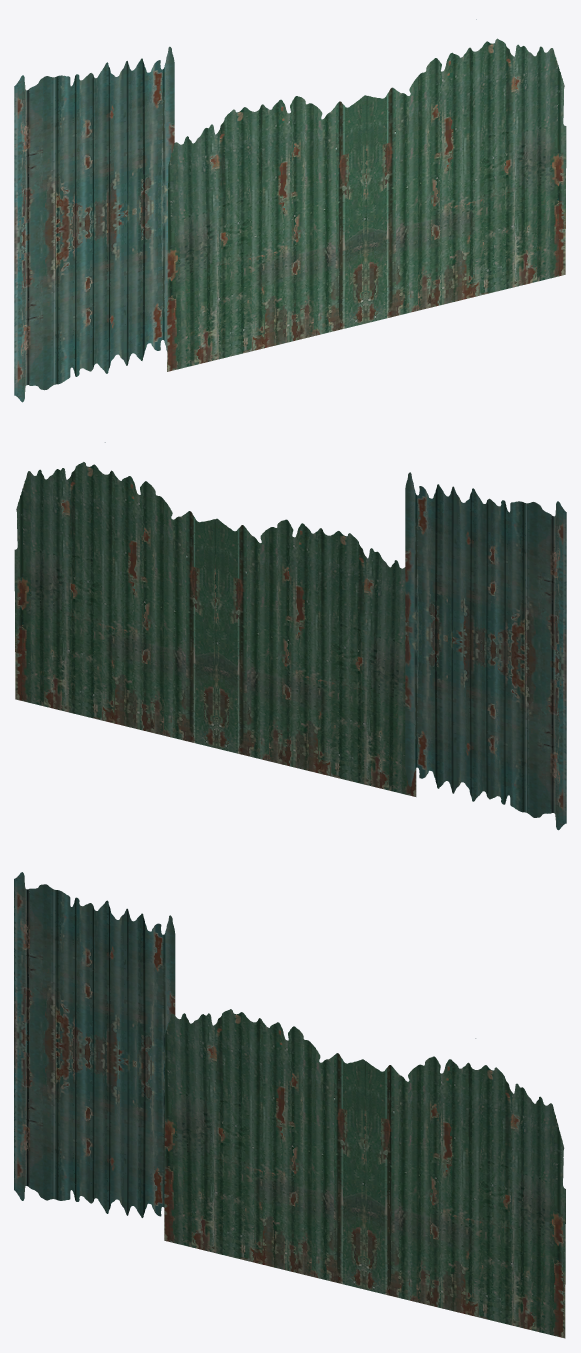
File: Prop_Wj021_lod1.glb
3 views of the same model, one above another, from view 1: azimuth 30°, elevation 25°; view 2: azimuth 150°, elevation 25°; view 3: azimuth 330°, elevation 25° (orthographic).
Parts seen in each view (by area): view 1: xiutz_wj021_lod0; view 2: xiutz_wj021_lod0; view 3: xiutz_wj021_lod0.
Part boxes in pixels (x1,y1,x2,y2): xiutz_wj021_lod0: (14,19,566,402); xiutz_wj021_lod0: (14,442,566,830); xiutz_wj021_lod0: (14,872,565,1338).
Bounding box in the file's own units: 9.19 × 5.35 × 0.0611.
Materials: 1 (1 with a texture image).
